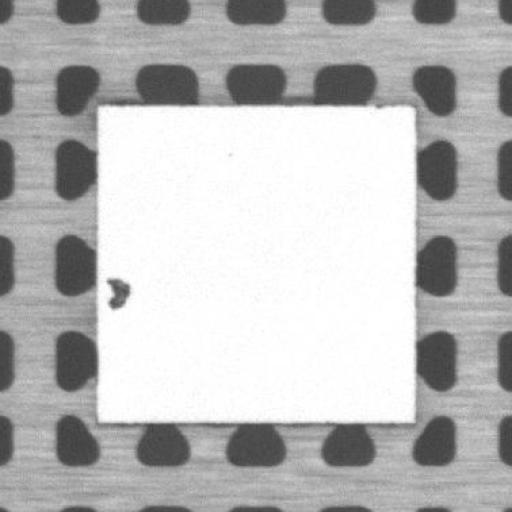DIE_INK: (104, 276, 133, 314)
